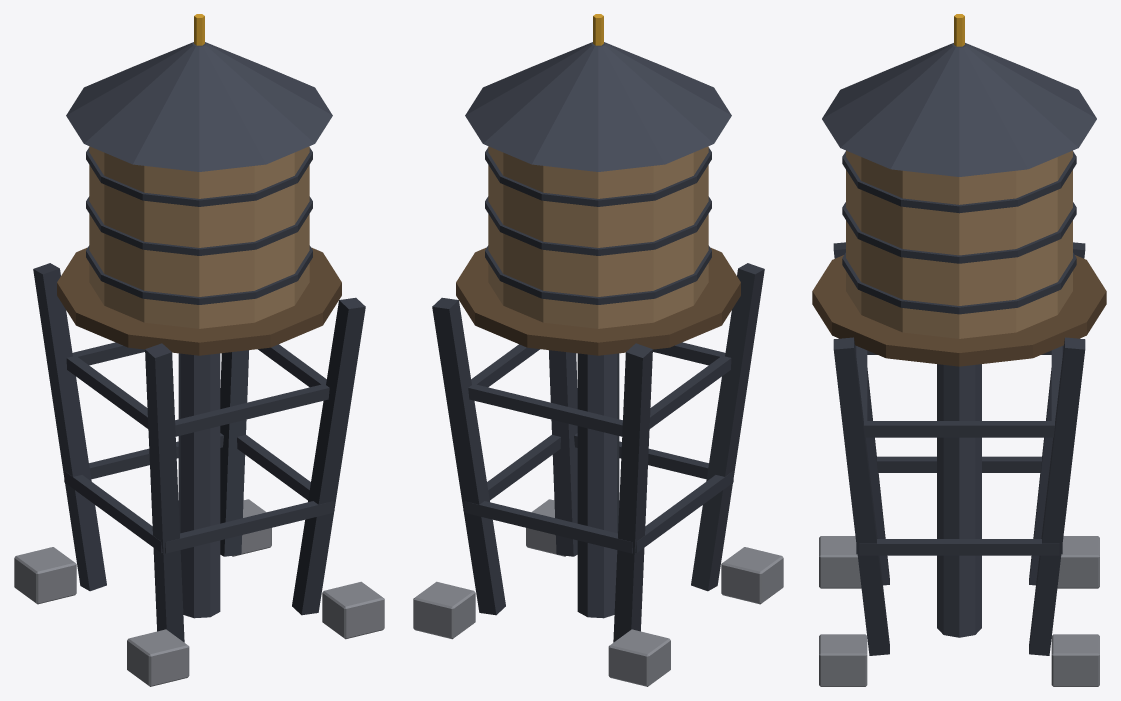
The model's file is Stylized_Landmark_WaterTower.fbx.
3 views of the same model, side by side, from view 1: azimuth 30°, elevation 25°; view 2: azimuth 150°, elevation 25°; view 3: azimuth 270°, elevation 25° (orthographic). The views are drawn at different scales.
Parts seen in each view (by area): view 1: Stylized_Landmark_WaterTower; view 2: Stylized_Landmark_WaterTower; view 3: Stylized_Landmark_WaterTower.
Boxes of the visible parts, x1,y1,x2,y2 form: Stylized_Landmark_WaterTower: [14, 14, 384, 686]; Stylized_Landmark_WaterTower: [413, 14, 783, 686]; Stylized_Landmark_WaterTower: [812, 14, 1106, 686].
Bounding box in the file's own units: 3.16 × 7.26 × 3.16.
